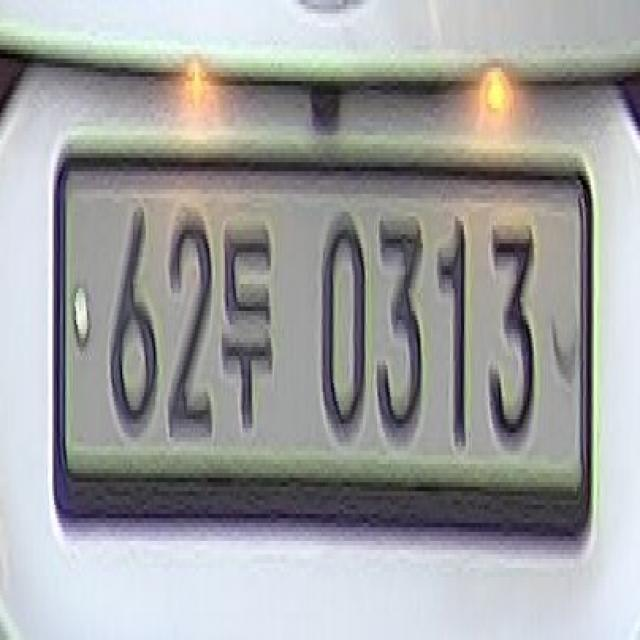0: (315, 203, 368, 443)
1: (428, 199, 474, 451)
2: (162, 205, 218, 441)
3: (482, 202, 542, 450), (372, 199, 426, 450)
6: (108, 207, 158, 430)
du: (220, 206, 278, 447)
license_plate: (51, 124, 604, 546)
